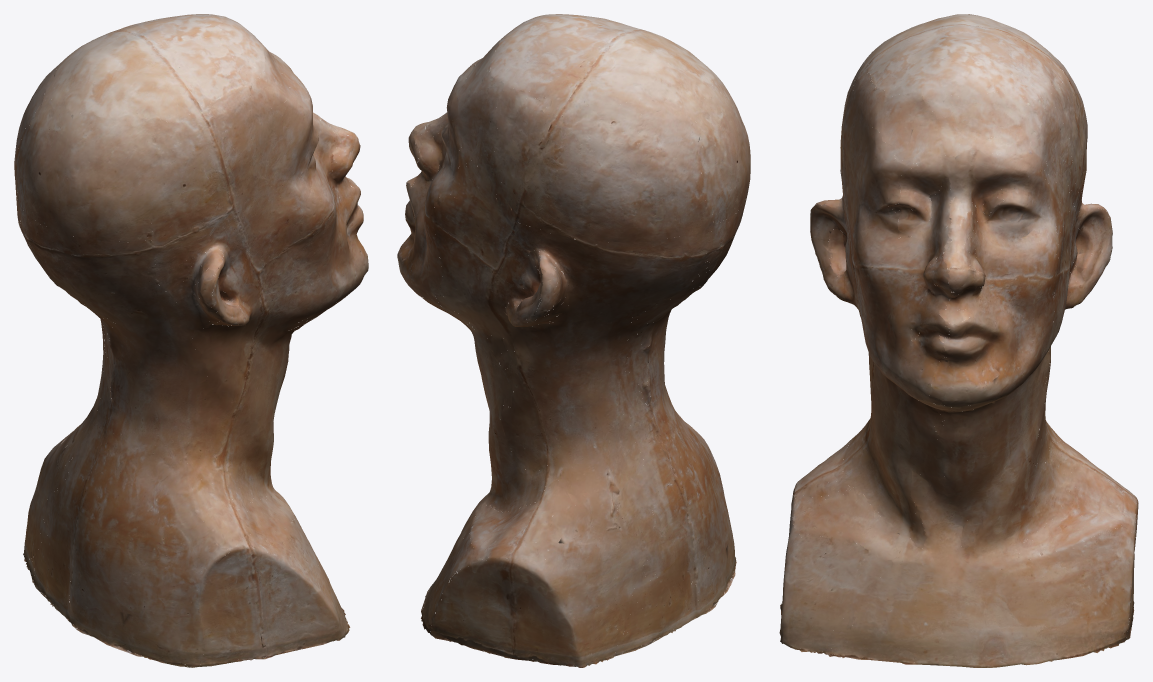
Rendered from jinkyujaso.glb.
3 renders of one model, left to right at view 1: azimuth 30°, elevation 25°; view 2: azimuth 150°, elevation 25°; view 3: azimuth 270°, elevation 25°, orthographic.
Parts seen in each view (by area): view 1: Mesh_0_Part_0; view 2: Mesh_0_Part_0; view 3: Mesh_0_Part_0.
Part boxes in pixels (x1=…): Mesh_0_Part_0: x1=14, y1=14, x2=368, y2=667; Mesh_0_Part_0: x1=397, y1=14, x2=750, y2=667; Mesh_0_Part_0: x1=779, y1=14, x2=1138, y2=667.
Size of the model in its own units: 1.85 by 3.06 by 1.75.
Materials: 1 (1 with a texture image).
